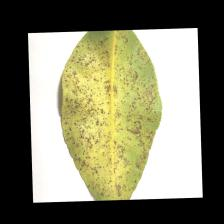canker: (71, 72, 147, 150)
